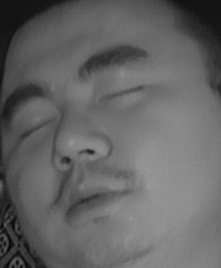blink: (101, 73, 143, 110), (16, 109, 54, 141)
mouth: (49, 167, 131, 223)
